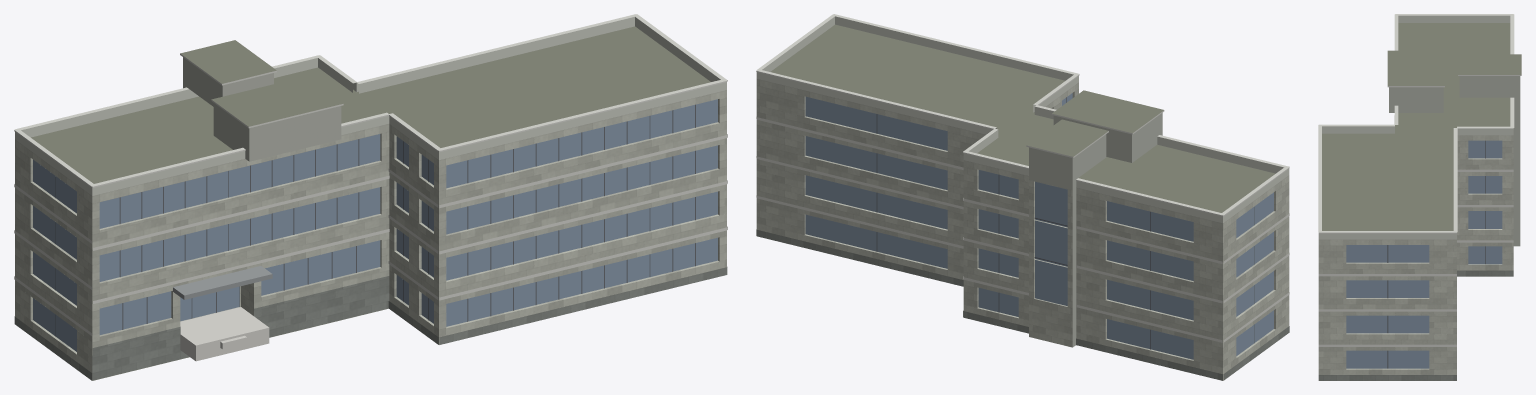
3 views of the same model, side by side, from view 1: azimuth 30°, elevation 25°; view 2: azimuth 150°, elevation 25°; view 3: azimuth 270°, elevation 25° (orthographic). The views are drawn at different scales.
Parts seen in each view (by area): view 1: b924__wall, b924__glass, b924__roof, b924__trim, b924__parapet, b924__base, b924__wall2, b924__frame, b924__entranceStair, b924__canopy; view 2: b924__wall, b924__glass, b924__roof, b924__trim, b924__parapet, b924__wall2, b924__base, b924__frame; view 3: b924__roof, b924__wall, b924__glass, b924__trim, b924__wall2, b924__parapet, b924__base, b924__frame.
Part boxes in pixels (x1,y1,x2,y2): b924__wall: (15, 90, 726, 380); b924__glass: (33, 99, 717, 351); b924__roof: (31, 26, 710, 380); b924__trim: (14, 14, 727, 335); b924__parapet: (15, 17, 726, 195); b924__base: (14, 267, 727, 380); b924__wall2: (183, 57, 341, 161); b924__frame: (55, 104, 695, 336); b924__entranceStair: (180, 307, 269, 361); b924__canopy: (173, 266, 272, 299); b924__wall: (756, 79, 1289, 380); b924__glass: (805, 93, 1273, 359); b924__roof: (770, 24, 1275, 380); b924__trim: (756, 14, 1289, 342); b924__parapet: (756, 16, 1289, 223); b924__wall2: (1029, 113, 1162, 347); b924__base: (756, 229, 1289, 380); b924__frame: (876, 97, 1254, 349); b924__roof: (1322, 23, 1521, 230); b924__wall: (1318, 135, 1513, 374); b924__glass: (1346, 140, 1502, 368); b924__trim: (1318, 14, 1521, 346); b924__wall2: (1389, 76, 1520, 246); b924__parapet: (1318, 15, 1513, 239); b924__base: (1318, 270, 1513, 380); b924__frame: (1387, 140, 1485, 368).
Bounding box in the file's own units: 47.82 × 17.57 × 18.83.
11 materials, 2 textured.
